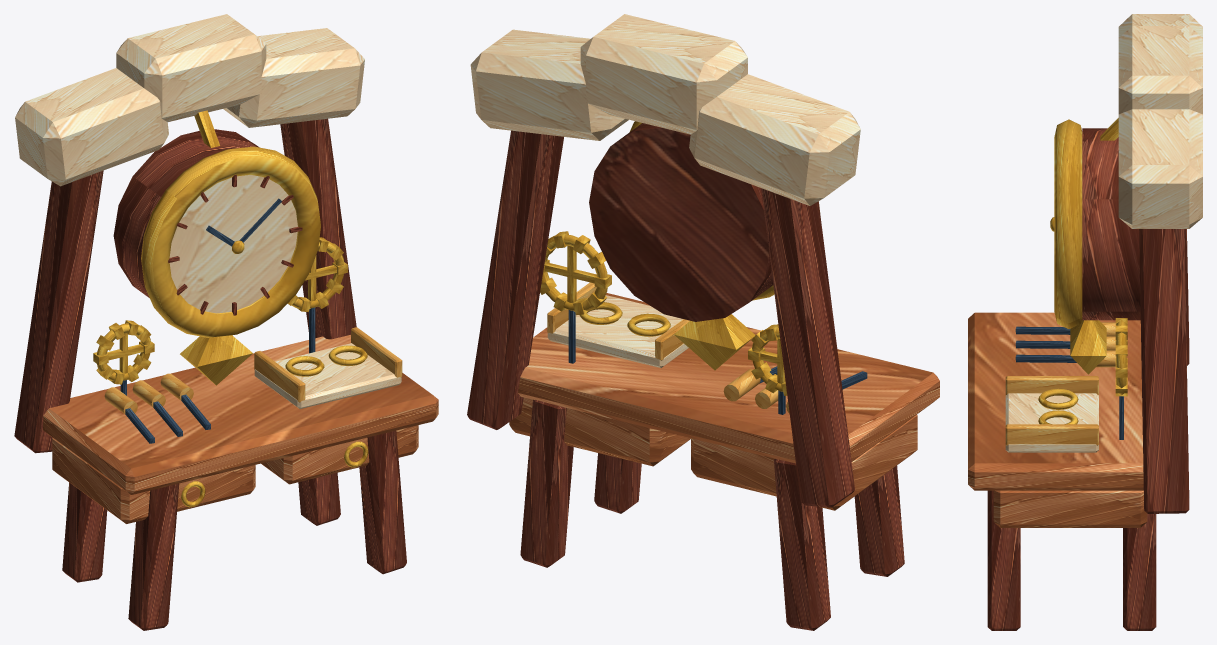
Rendered from revised-09-05.glb.
3 renders of one model, left to right at view 1: azimuth 30°, elevation 25°; view 2: azimuth 150°, elevation 25°; view 3: azimuth 270°, elevation 25°, orthographic. The views are drawn at different scales.
Parts seen in each view (by area): view 1: clock_station; view 2: clock_station; view 3: clock_station.
Boxes of the visible parts, x1,y1,x2,y2 form: clock_station: [14, 14, 438, 630]; clock_station: [467, 14, 939, 630]; clock_station: [968, 14, 1202, 630].
Size of the model in its own units: 1.3 by 1.89 by 0.78.
Materials: 2 (2 with a texture image).
